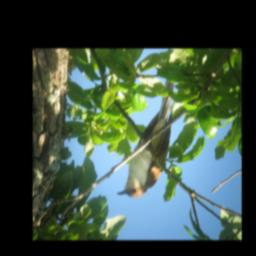Cuckoo: (114, 75, 177, 199)
